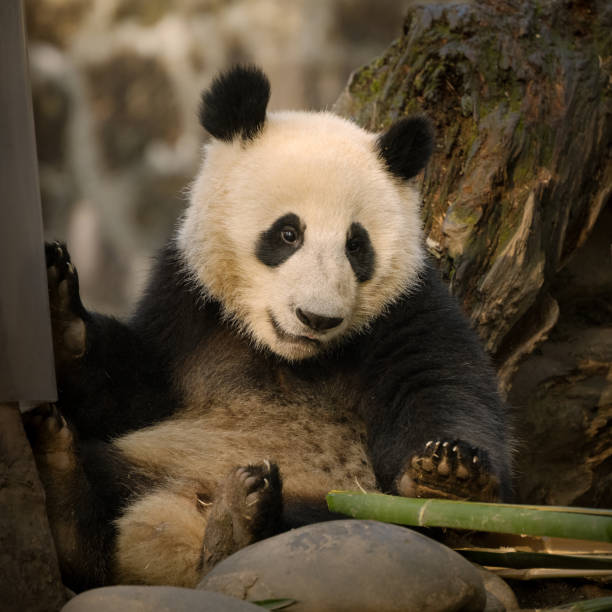panda: (157, 54, 461, 372)
